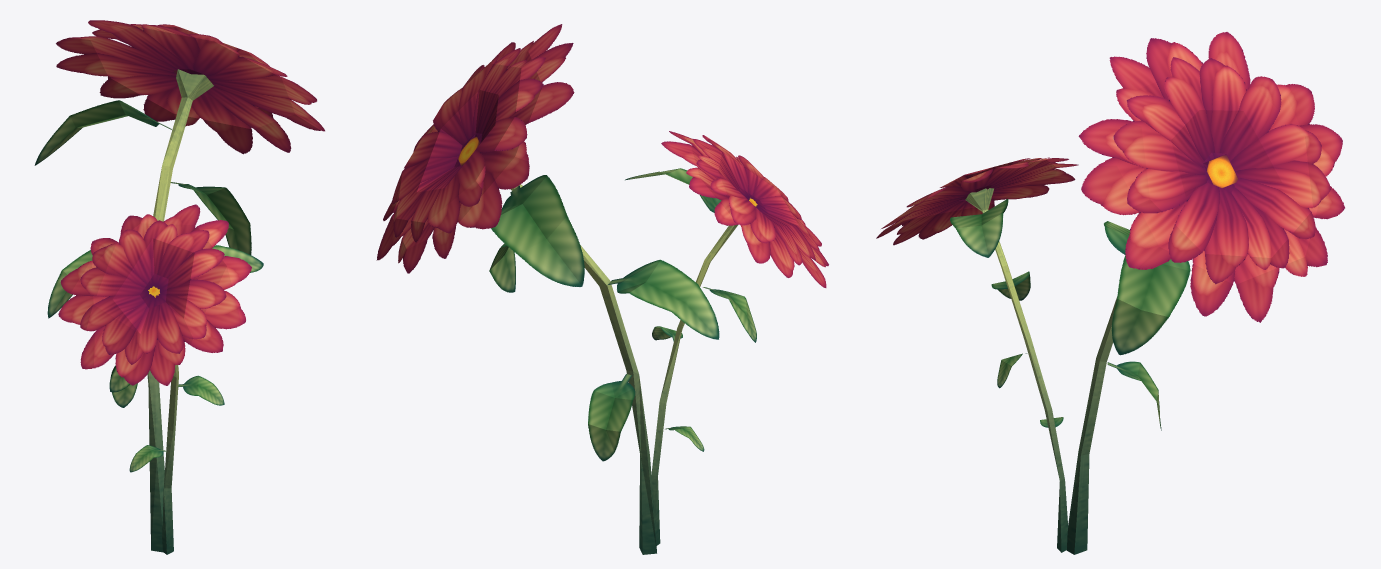
File: VEG0310011.fbx
3 views of the same model, side by side, from view 1: azimuth 30°, elevation 25°; view 2: azimuth 150°, elevation 25°; view 3: azimuth 270°, elevation 25° (orthographic). The views are drawn at different scales.
Parts seen in each view (by area): view 1: smVEG0310011; view 2: smVEG0310011; view 3: smVEG0310011.
Part boxes in pixels (x1=…): smVEG0310011: x1=34, y1=20, x2=324, y2=554; smVEG0310011: x1=376, y1=24, x2=828, y2=554; smVEG0310011: x1=876, y1=32, x2=1344, y2=554.
Size of the model in its own units: 24.75 by 35.87 by 30.25.
Materials: 1 (1 with a texture image).
